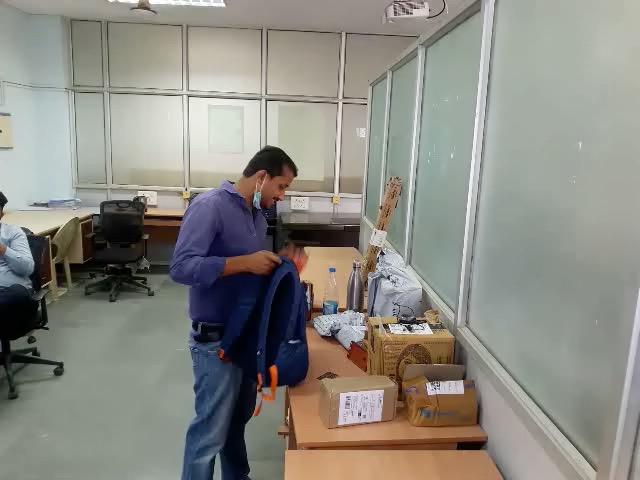shoplifting: (126, 244, 442, 405)
